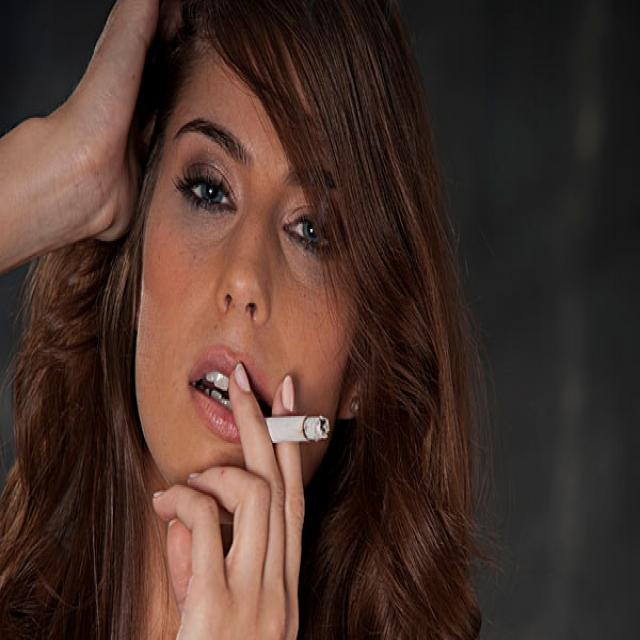smoking: (257, 412, 330, 444)
